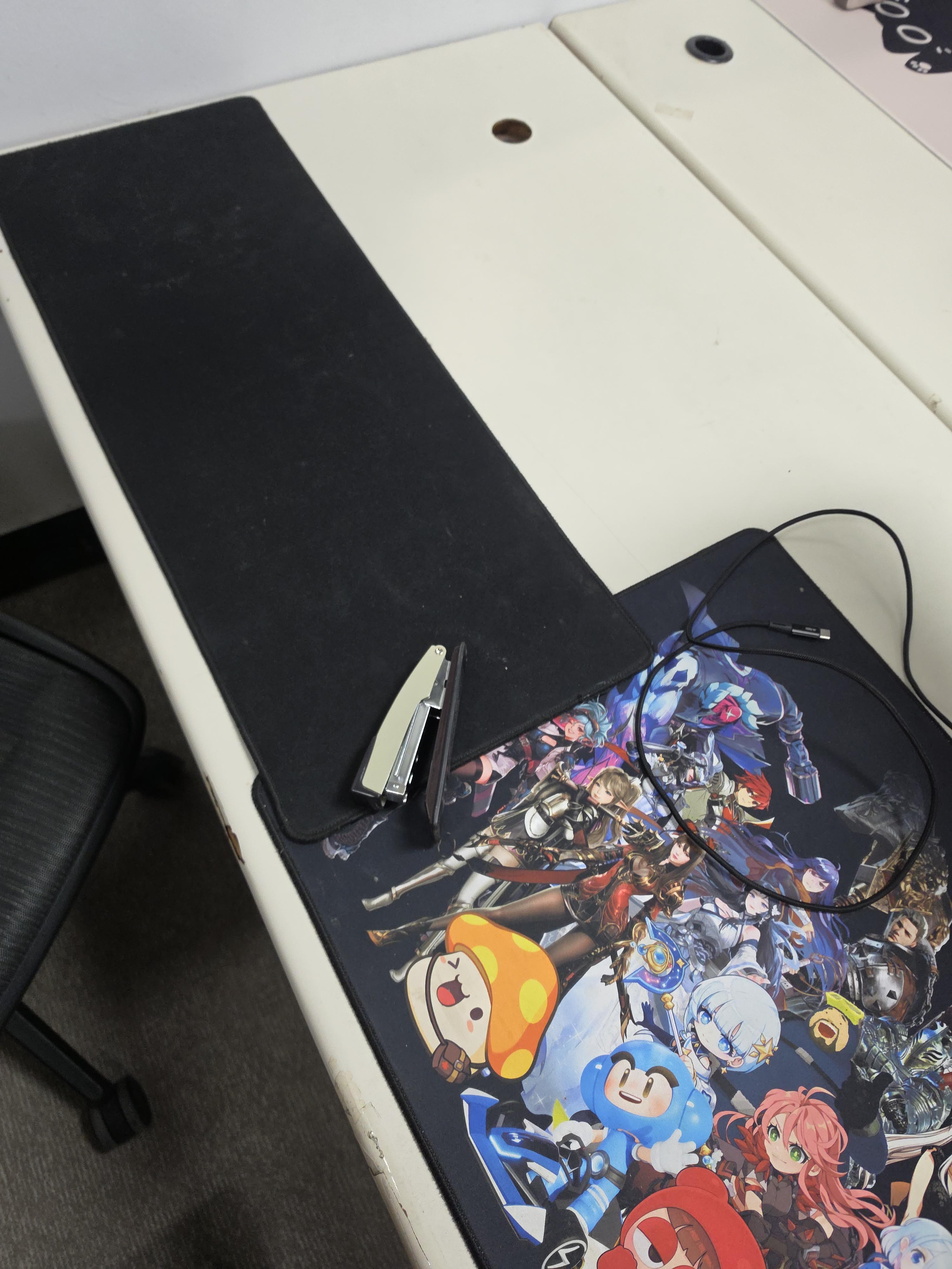stapler: (350, 641, 467, 844)
